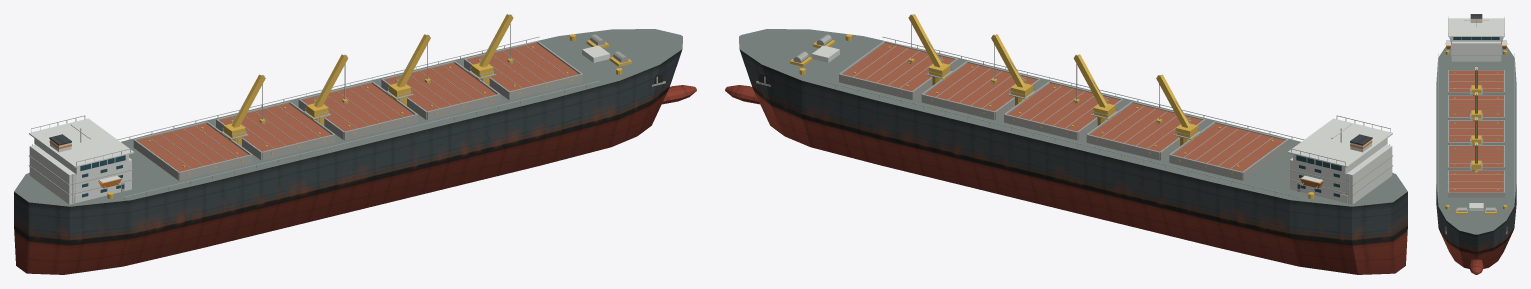
The model's file is bulk-carrier-handymax.glb.
The picture shows the model from 3 angles, left to right: view 1: azimuth 30°, elevation 25°; view 2: azimuth 150°, elevation 25°; view 3: azimuth 270°, elevation 25°; orthographic projection. The views are drawn at different scales.
Visible parts, largest first — view 1: upper hull, red hull, rust, deck, pipe, white, rail, yellow, boot top, dark window; view 2: upper hull, red hull, rust, deck, pipe, white, rail, yellow, boot top, dark window; view 3: deck, rust, white, rail, pipe, upper hull, red hull, yellow, boot top, dark window.
Part boxes in pixels (x1,y1,x2,y2): upper hull: [14, 49, 682, 240]; red hull: [14, 85, 696, 274]; rust: [137, 43, 578, 171]; deck: [14, 29, 682, 206]; pipe: [133, 14, 665, 180]; white: [29, 45, 610, 204]; rail: [28, 24, 599, 202]; yellow: [107, 14, 631, 198]; boot top: [14, 86, 669, 244]; dark window: [80, 155, 125, 197]; upper hull: [739, 49, 1407, 240]; red hull: [725, 85, 1407, 274]; rust: [843, 43, 1284, 171]; deck: [739, 29, 1407, 206]; pipe: [756, 14, 1288, 180]; white: [811, 45, 1392, 204]; rail: [822, 24, 1393, 202]; yellow: [790, 14, 1314, 198]; boot top: [752, 86, 1407, 244]; dark window: [1296, 155, 1341, 197]; deck: [1436, 44, 1516, 234]; rust: [1449, 71, 1503, 192]; white: [1446, 18, 1506, 210]; rail: [1438, 17, 1514, 197]; pipe: [1445, 68, 1507, 234]; upper hull: [1436, 184, 1516, 251]; red hull: [1440, 232, 1512, 274]; yellow: [1445, 50, 1507, 214]; boot top: [1438, 14, 1514, 253]; dark window: [1449, 37, 1503, 43].
Bounding box in the file's own units: 194 × 37.41 × 32.
12 materials, 3 textured.
